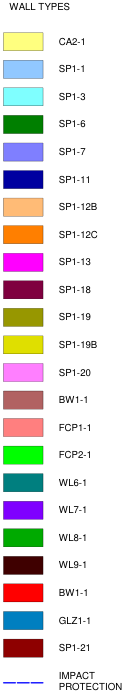hatch: (1, 167, 45, 192), (1, 84, 46, 108), (1, 525, 46, 549), (2, 553, 45, 578), (2, 29, 46, 53), (2, 250, 46, 274), (1, 580, 45, 604), (1, 58, 46, 81), (2, 636, 47, 659), (2, 196, 45, 220), (2, 223, 45, 246), (2, 609, 45, 632), (2, 113, 46, 135), (2, 141, 46, 163), (2, 471, 46, 493), (2, 306, 45, 328), (2, 334, 45, 356), (2, 444, 45, 466), (2, 499, 45, 521), (2, 417, 44, 439), (2, 279, 45, 300), (2, 363, 44, 383), (2, 390, 44, 410), (3, 681, 48, 686)
label: (55, 667, 124, 692), (54, 228, 100, 242), (53, 200, 101, 213), (54, 420, 95, 435), (56, 172, 93, 188), (55, 528, 92, 544), (53, 557, 95, 571), (56, 34, 92, 50), (51, 585, 92, 599), (54, 613, 95, 627), (55, 309, 95, 323), (56, 366, 96, 380), (57, 447, 93, 462), (52, 339, 101, 350), (55, 283, 96, 296), (54, 393, 91, 407), (56, 475, 90, 490), (56, 255, 95, 268), (54, 62, 90, 76), (56, 90, 88, 105), (57, 117, 89, 131), (56, 145, 89, 158), (56, 503, 91, 515), (57, 641, 90, 653)
